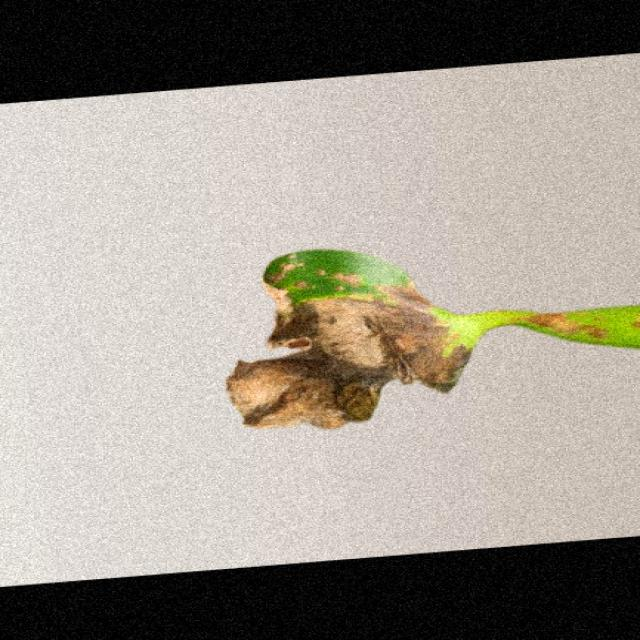daun berpenyakit karat: (227, 250, 638, 429)
